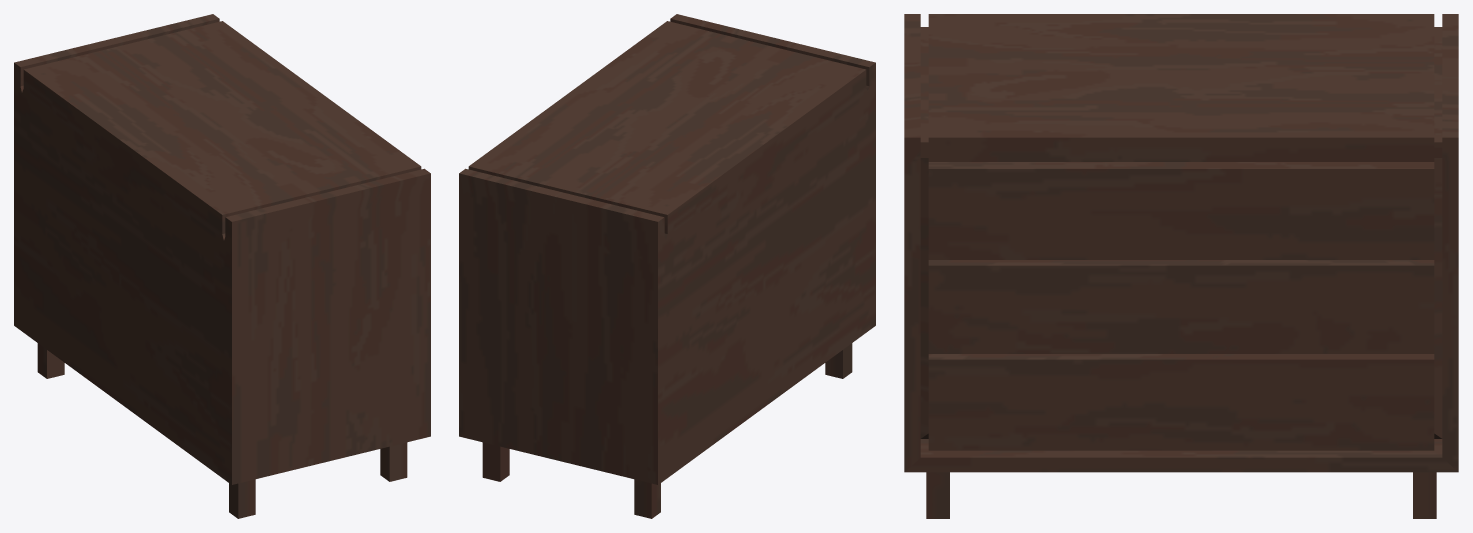
The model's file is STFbedside_table.glb.
3 renders of one model, left to right at view 1: azimuth 30°, elevation 25°; view 2: azimuth 150°, elevation 25°; view 3: azimuth 270°, elevation 25°, orthographic. The views are drawn at different scales.
Visible parts, largest first — view 1: STFbedside_table; view 2: STFbedside_table; view 3: STFbedside_table.
Part boxes in pixels (x1,y1,x2,y2): STFbedside_table: (14,14,430,518); STFbedside_table: (459,14,875,518); STFbedside_table: (904,14,1458,518).
Bounding box in the file's own units: 0.475 × 0.7 × 0.9.
Materials: 1 (1 with a texture image).
